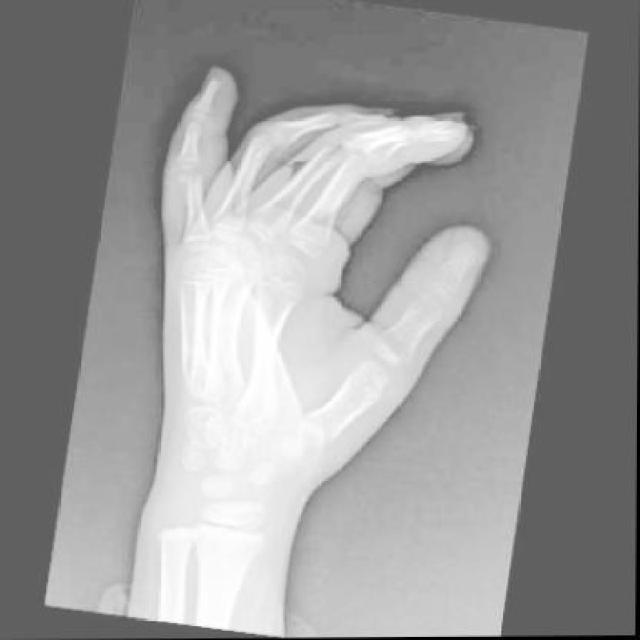Fracture: (175, 157, 205, 191)
